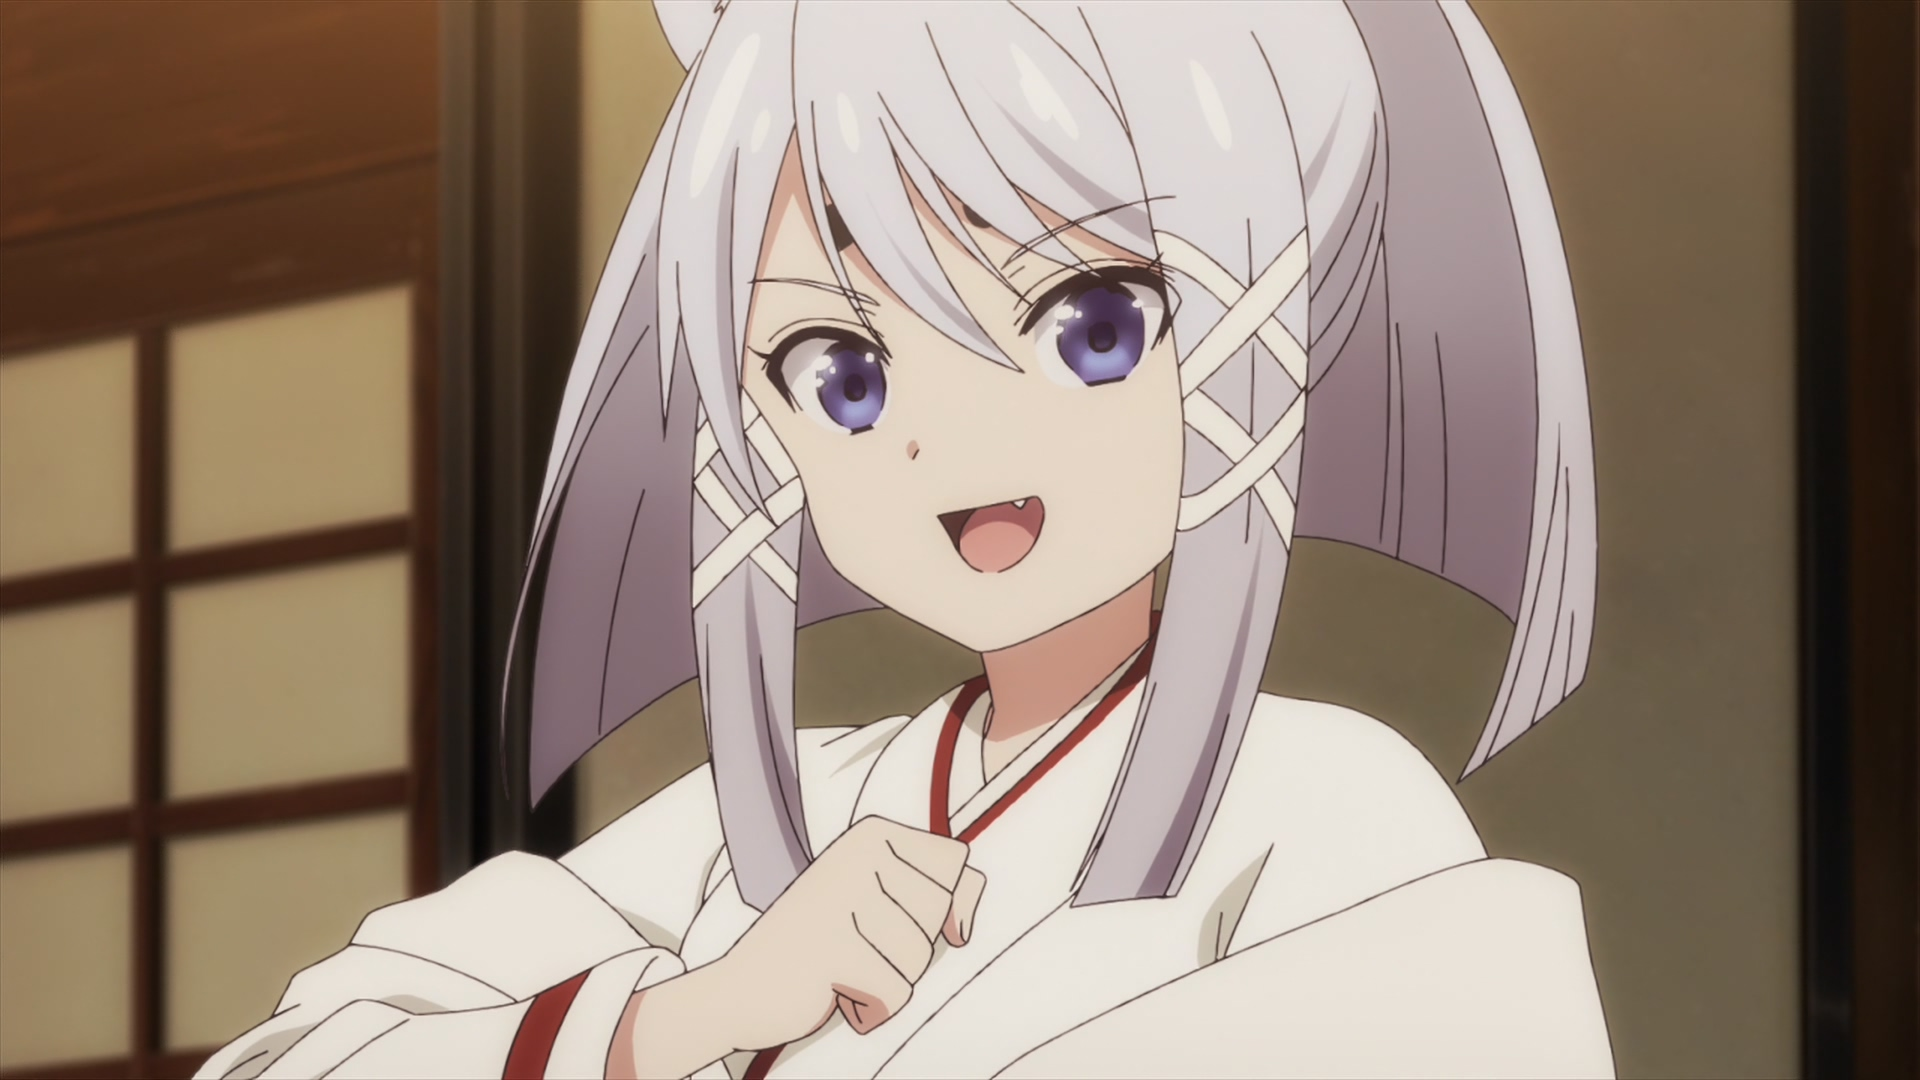柊: (193, 1, 1615, 1080)
